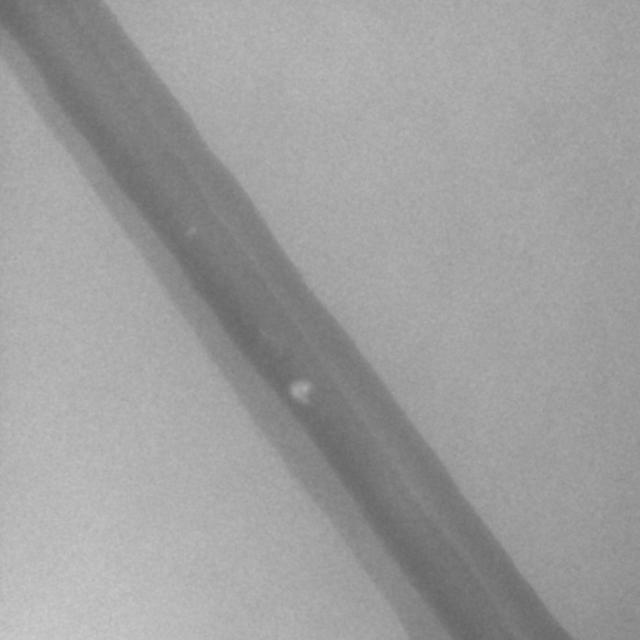air hole: (186, 225, 196, 237)
slag inclusion: (289, 380, 312, 404)
